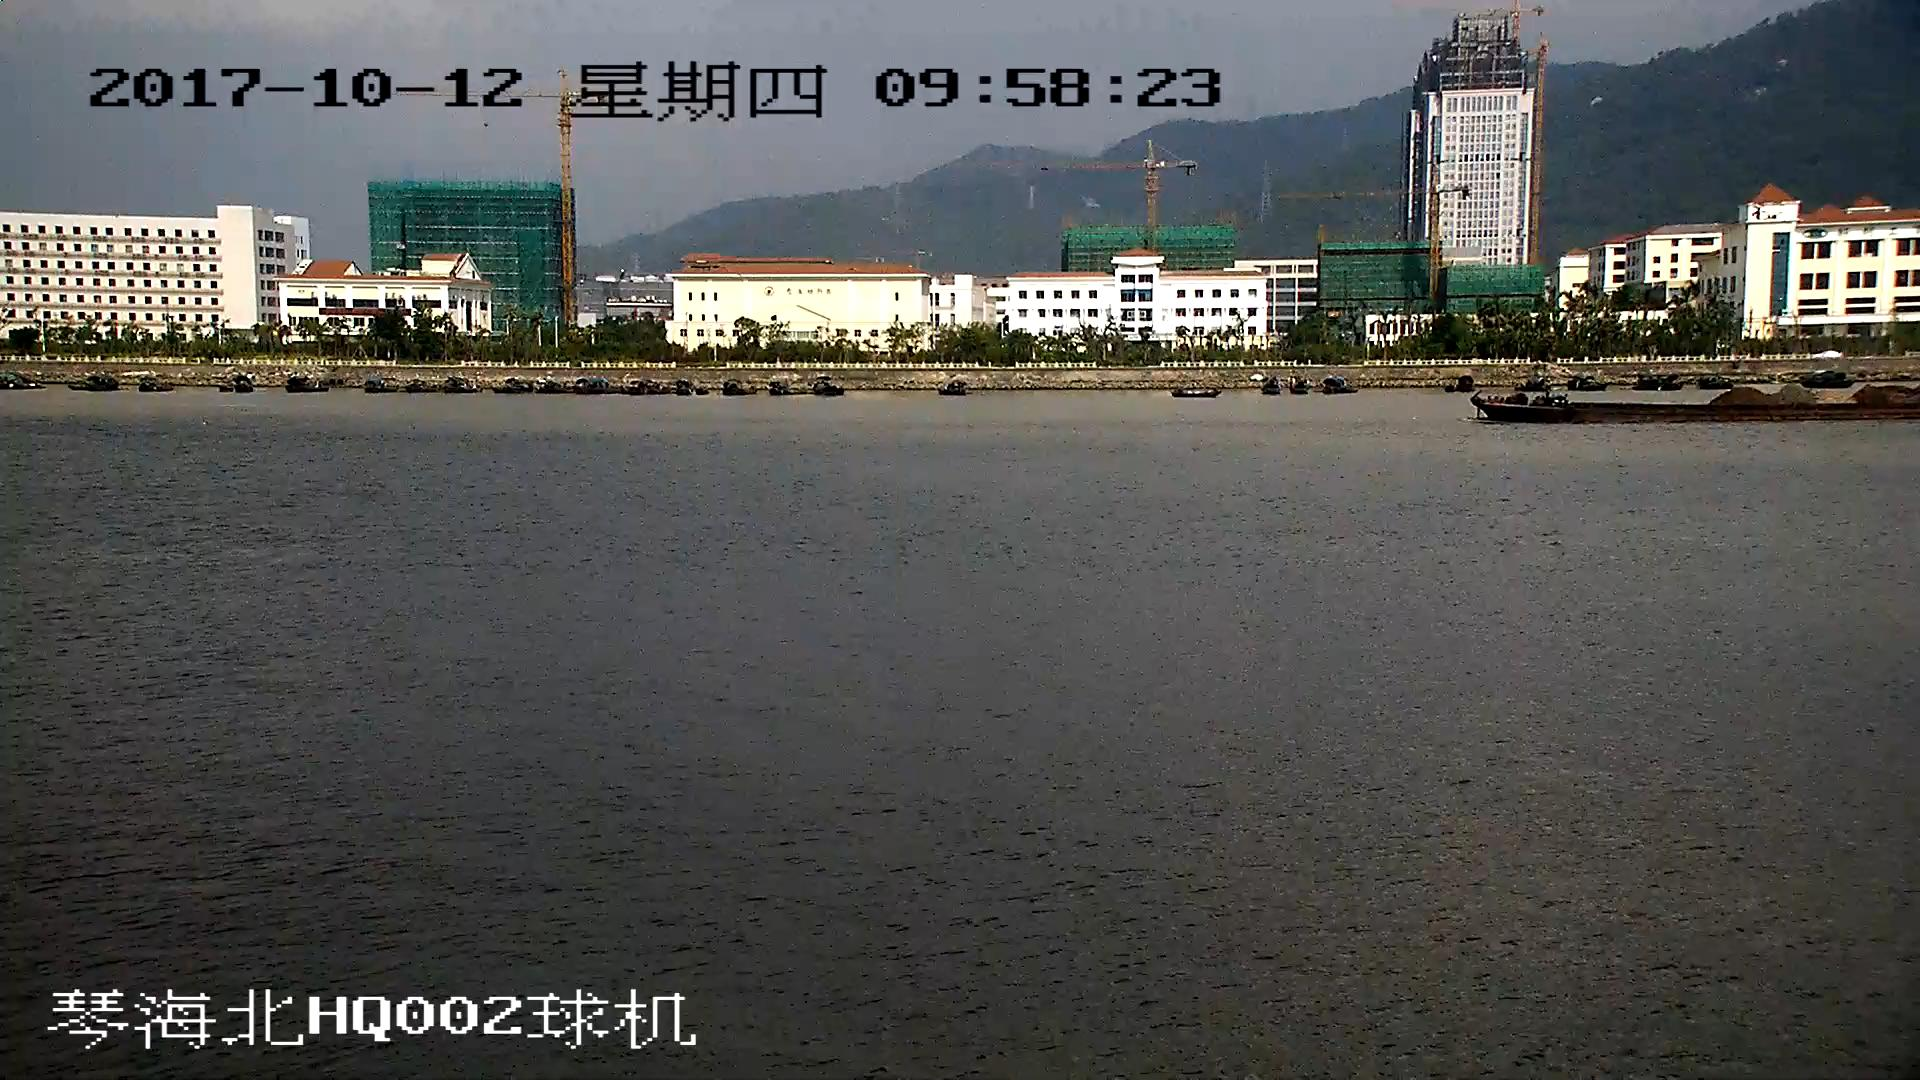ore carrier: (1472, 379, 1920, 426)
